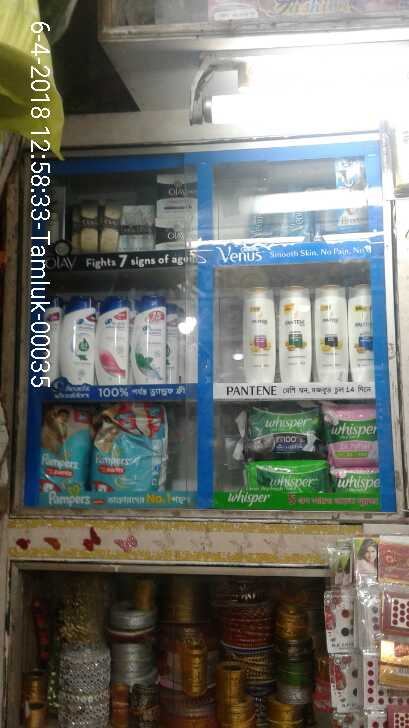venus: (333, 159, 367, 230), (249, 180, 283, 235), (289, 180, 320, 231)
